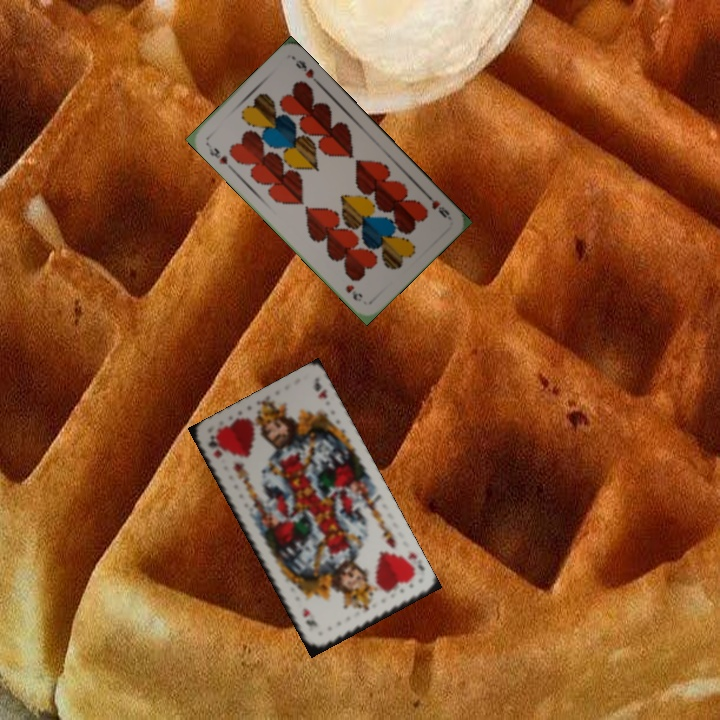H9: (421, 189, 453, 222), (202, 139, 230, 167)
HK: (204, 431, 225, 461), (404, 548, 428, 574)
